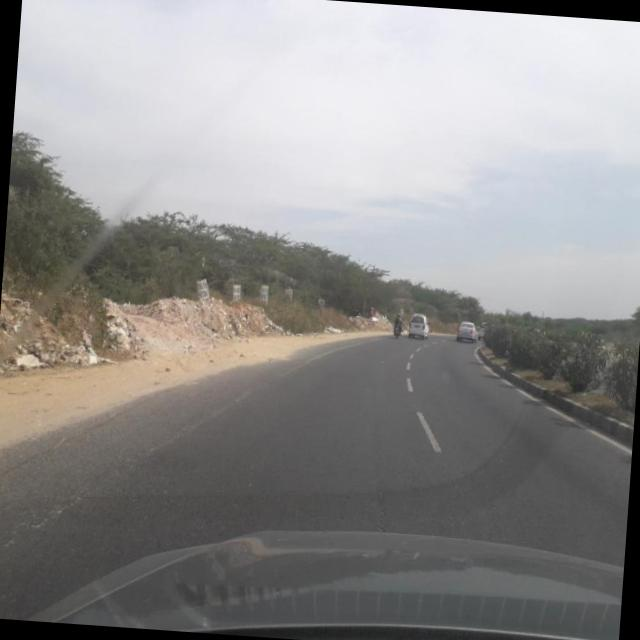pothole: (364, 426, 402, 534)
